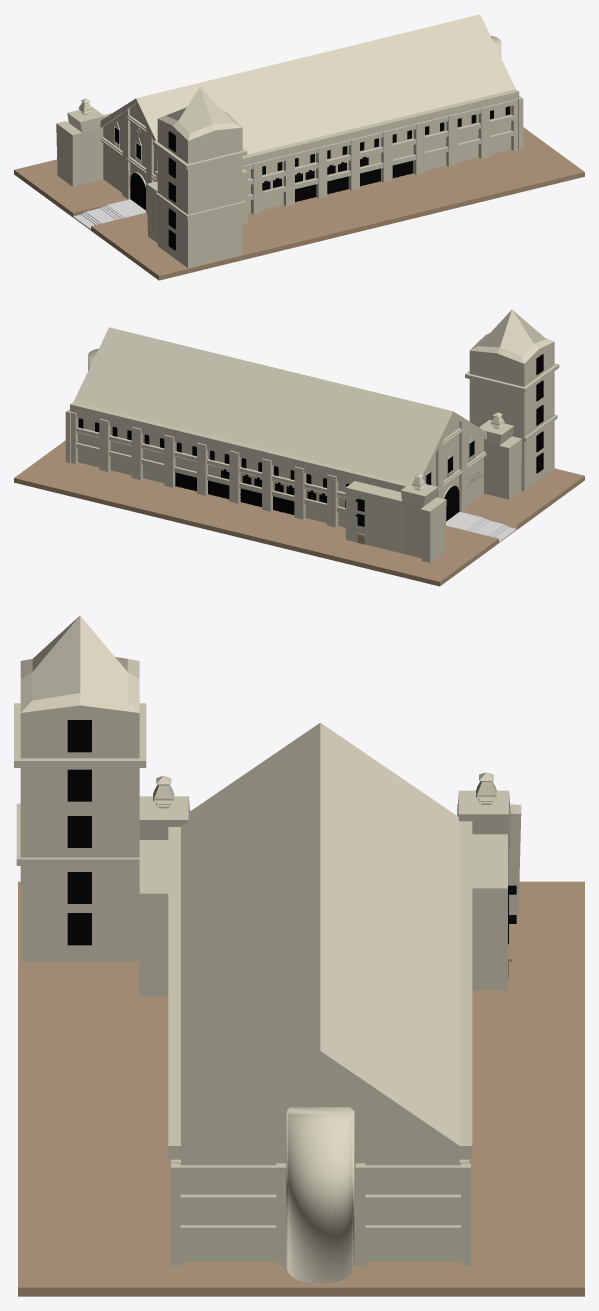
Rendered from Chapel.fbx.
3 renders of one model, top to bottom at view 1: azimuth 30°, elevation 25°; view 2: azimuth 150°, elevation 25°; view 3: azimuth 270°, elevation 25°, orthographic. The views are drawn at different scales.
Parts seen in each view (by area): view 1: Cube, Cube.030, Tower, Cube.005, Cube.028, Stairs, Cube.003, Cube.023; view 2: Cube, Cube.030, Tower, Cube.004, Cube.027, Stairs, Cube.003, Cube.014; view 3: Cube, Cube.030, Tower, Cylinder, Cube.024, Cube.025.
Part boxes in pixels (bbox=[...]): Cube: bbox=[56, 14, 519, 242]; Cube.030: bbox=[14, 127, 584, 280]; Tower: bbox=[153, 86, 247, 268]; Cube.005: bbox=[242, 99, 518, 214]; Cube.028: bbox=[295, 160, 413, 201]; Stairs: bbox=[73, 199, 145, 230]; Cube.003: bbox=[113, 121, 157, 210]; Cube.023: bbox=[262, 106, 510, 174]; Cube: bbox=[70, 327, 521, 562]; Cube.030: bbox=[14, 440, 584, 586]; Tower: bbox=[465, 309, 559, 490]; Cube.004: bbox=[71, 412, 353, 527]; Cube.027: bbox=[175, 472, 294, 514]; Stairs: bbox=[446, 512, 516, 542]; Cube.003: bbox=[425, 435, 475, 521]; Cube.014: bbox=[78, 418, 349, 487]; Cube: bbox=[139, 722, 521, 1261]; Cube.030: bbox=[18, 881, 584, 1296]; Tower: bbox=[14, 615, 146, 961]; Cylinder: bbox=[286, 1107, 354, 1283]; Cube.024: bbox=[171, 1163, 286, 1269]; Cube.025: bbox=[355, 1163, 470, 1266].
Bounding box in the file's own units: 19357 × 7324 × 11502.
